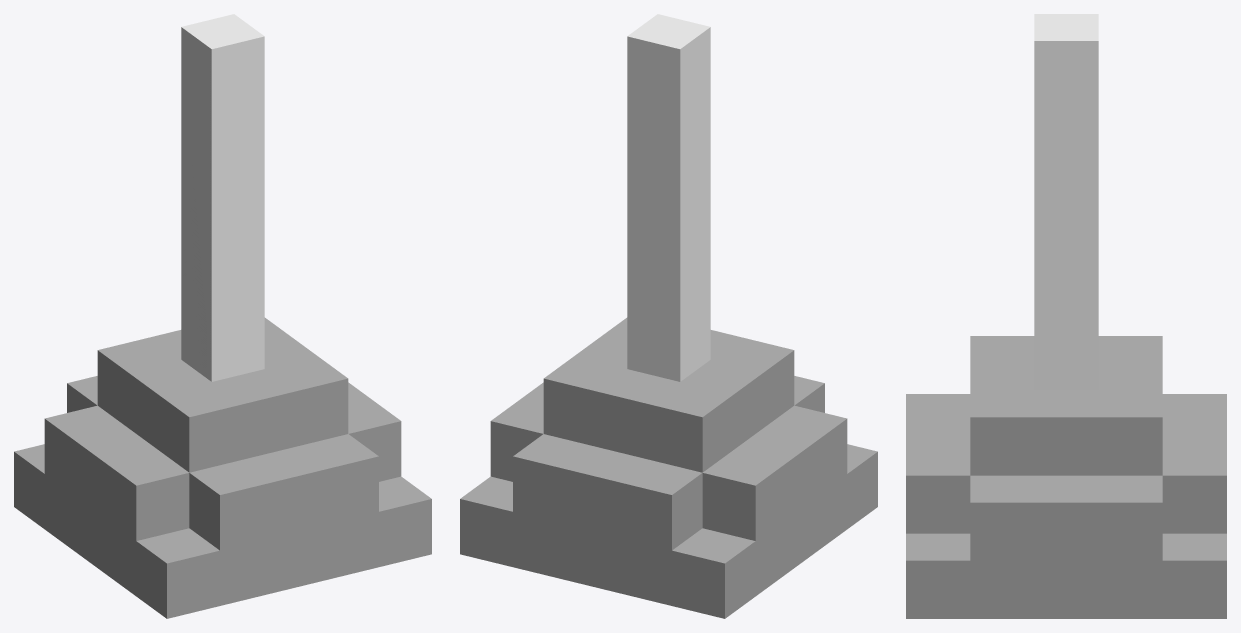
File: ToiletBrush.dae
3 views of the same model, side by side, from view 1: azimuth 30°, elevation 25°; view 2: azimuth 150°, elevation 25°; view 3: azimuth 270°, elevation 25° (orthographic). The views are drawn at different scales.
Visible parts, largest first — view 1: ToiletBrush; view 2: ToiletBrush; view 3: ToiletBrush.
Boxes of the visible parts, bbox=[...] form: ToiletBrush: bbox=[14, 14, 431, 618]; ToiletBrush: bbox=[460, 14, 877, 618]; ToiletBrush: bbox=[906, 14, 1226, 618].
Bounding box in the file's own units: 5 × 9 × 5.
1 material, 1 textured.
